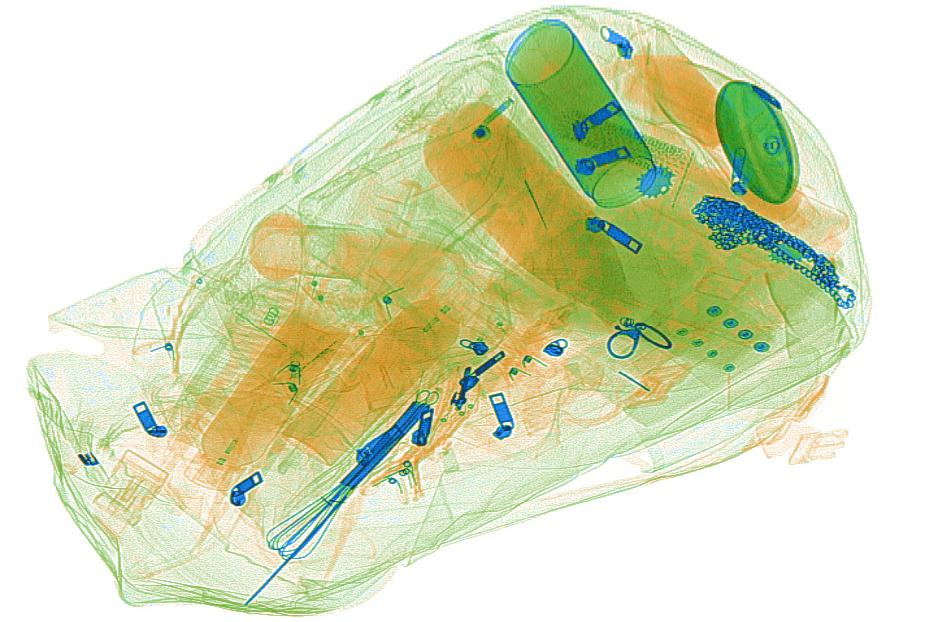pressure: (279, 270, 486, 467), (184, 303, 350, 493)
